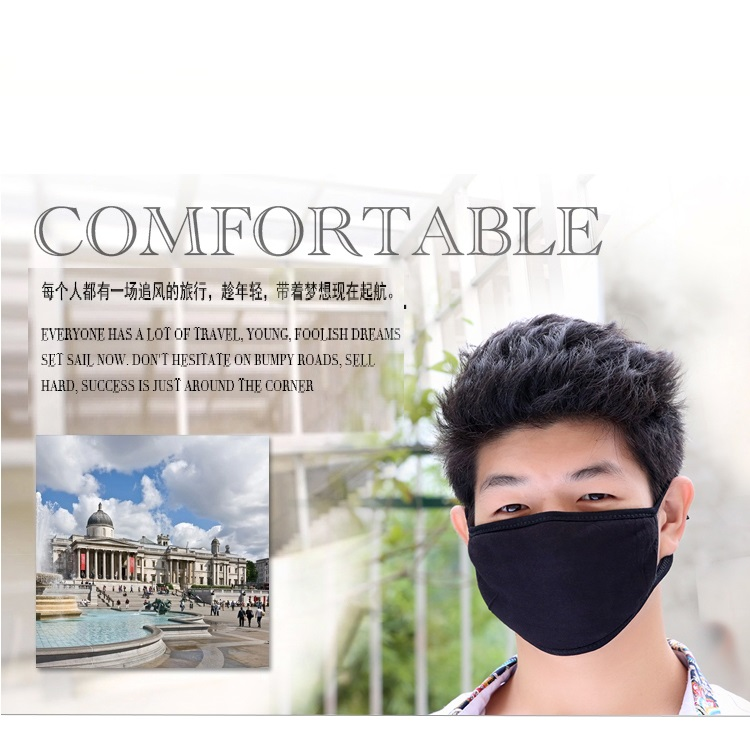face_mask: (470, 412, 658, 641)
